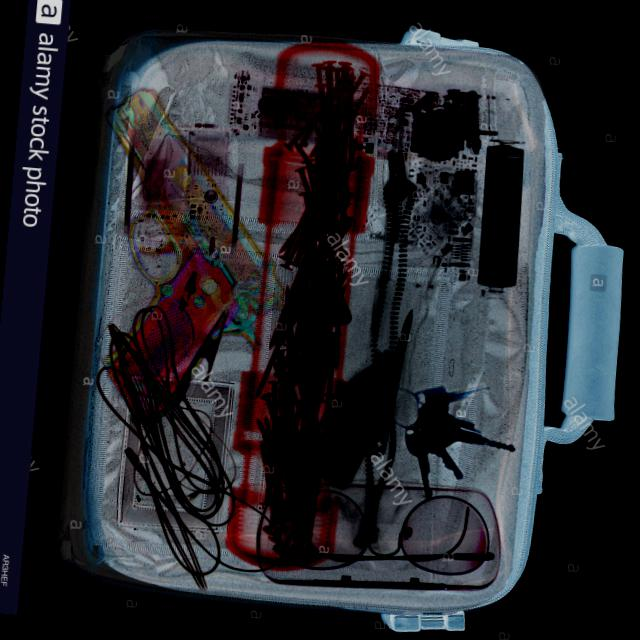handgun: (78, 82, 305, 432)
